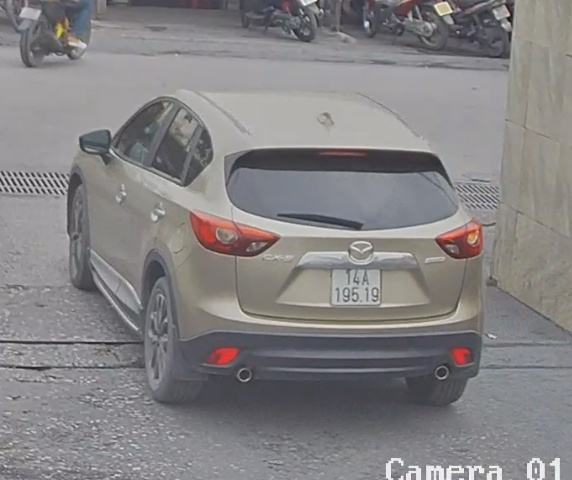vehicle plate: (331, 264, 383, 306)
